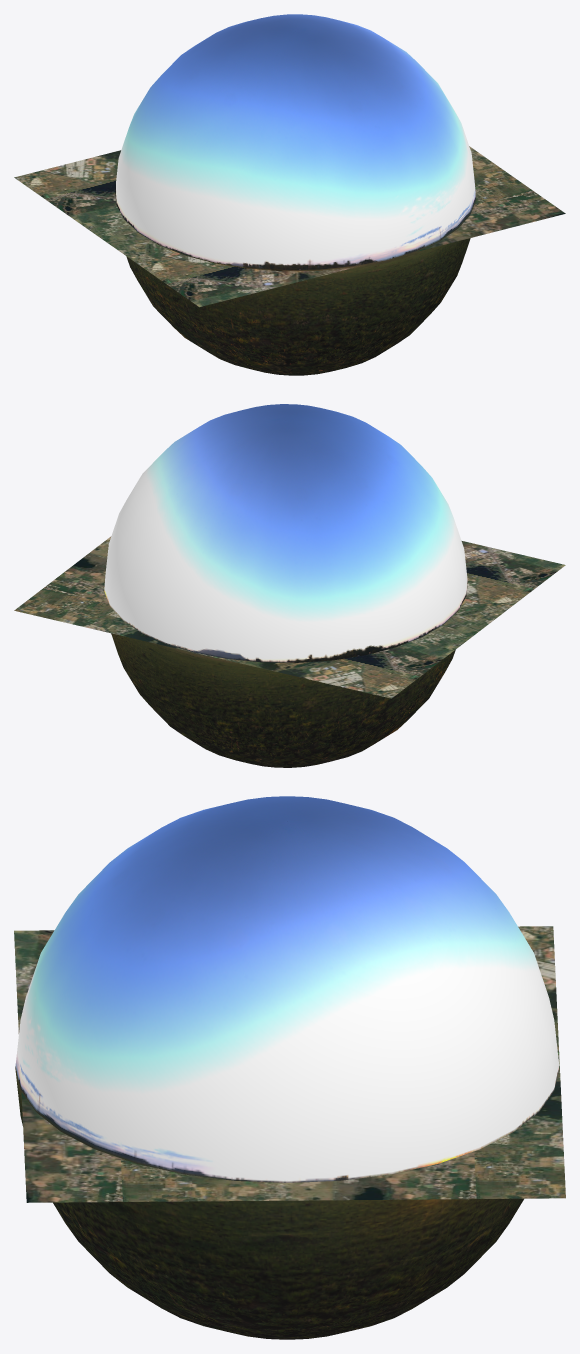
The model's file is vit_map.glb.
The picture shows the model from 3 angles, top to bottom: view 1: azimuth 30°, elevation 25°; view 2: azimuth 150°, elevation 25°; view 3: azimuth 270°, elevation 25°; orthographic projection. The views are drawn at different scales.
Visible parts, largest first — view 1: Sphere, map; view 2: Sphere, map; view 3: Sphere, map.
Part boxes in pixels (<box>): Sphere: <box>115,14,476,375</box>; map: <box>14,146,565,307</box>; Sphere: <box>104,404,467,767</box>; map: <box>14,536,565,698</box>; Sphere: <box>15,796,559,1339</box>; map: <box>14,926,565,1202</box>.
Size of the model in its own units: 5485 by 4560 by 4625.
58 materials, 56 textured.
